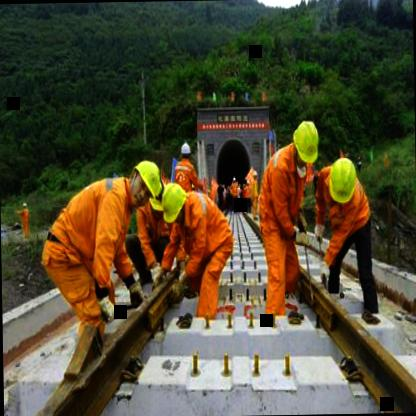helmet: (323, 152, 360, 216), (126, 154, 164, 214), (290, 116, 322, 170), (157, 180, 189, 228), (178, 142, 192, 160)
